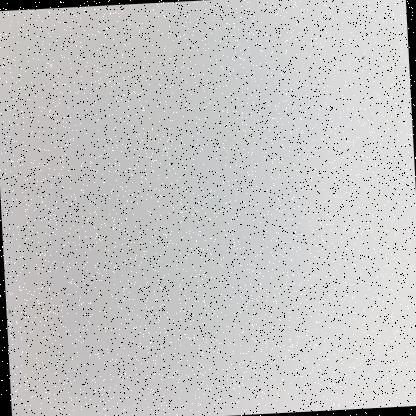Nocrack: (11, 26, 408, 409)
